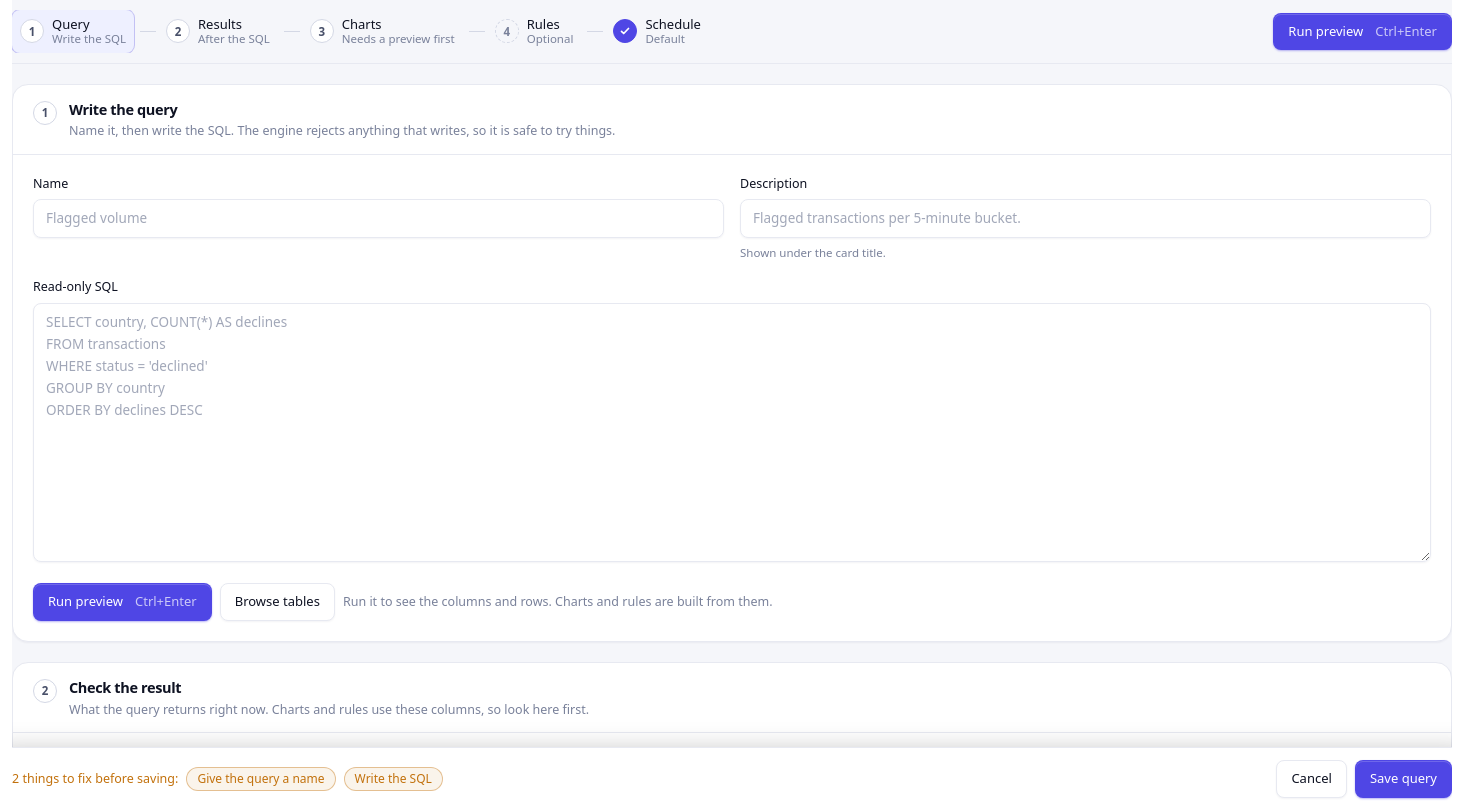
Test case: finding Preview › does not run an empty query, and says where to type
The image size is (1464, 810).
Click the 1st button "Run preview Ctrl+Enter". click: (1363, 31)
box: [1273, 13, 1452, 50]
(page scrolled)
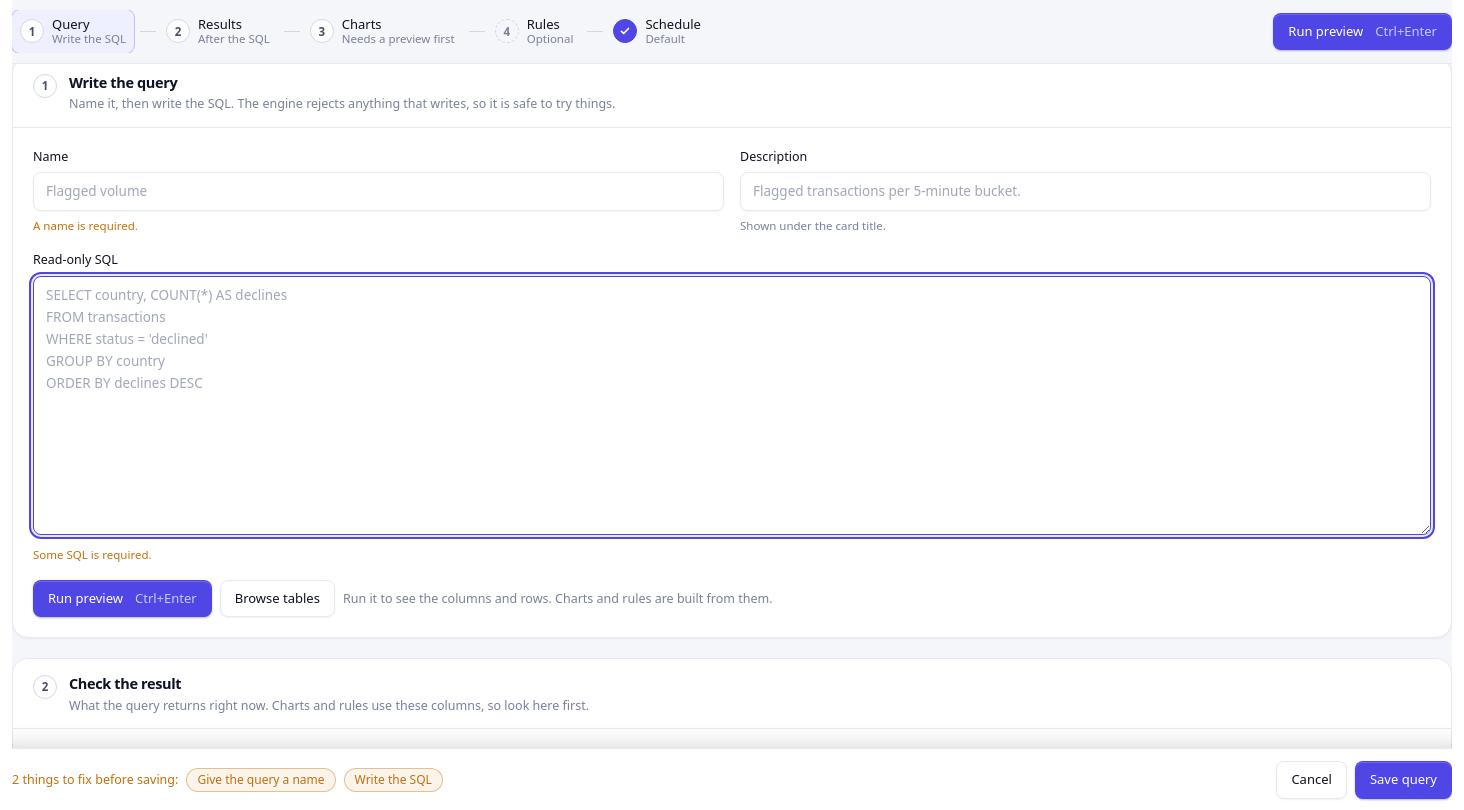
Result: the text "Some SQL is required." is shown at [33, 547, 152, 562]
